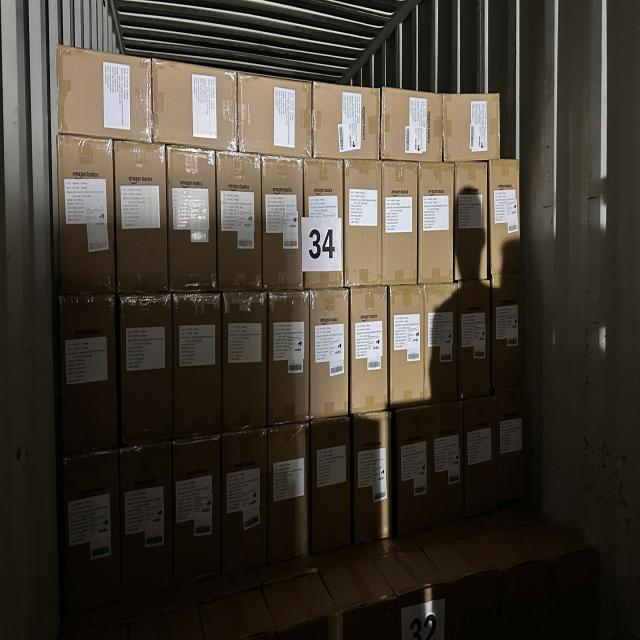Carton: (56, 290, 119, 456), (55, 136, 114, 296), (62, 455, 118, 613), (60, 51, 153, 146), (120, 296, 173, 447), (115, 143, 168, 294), (154, 62, 239, 154), (122, 443, 172, 599), (174, 291, 223, 441), (176, 440, 224, 590), (170, 150, 219, 296), (222, 431, 267, 578), (240, 75, 314, 160), (216, 152, 261, 291), (222, 295, 266, 433), (391, 404, 434, 536), (270, 426, 310, 567), (263, 158, 304, 294), (314, 417, 354, 556), (270, 296, 310, 434), (301, 160, 343, 291), (491, 384, 533, 513), (424, 398, 466, 526), (314, 83, 382, 161), (312, 292, 352, 424), (353, 410, 392, 544), (350, 288, 388, 417), (344, 162, 382, 287), (391, 287, 429, 410), (383, 87, 445, 162), (380, 163, 416, 286), (491, 282, 531, 392), (419, 164, 455, 284), (456, 160, 492, 280), (459, 281, 494, 402), (488, 160, 523, 280), (466, 396, 499, 520), (442, 96, 498, 165), (426, 284, 457, 408)
